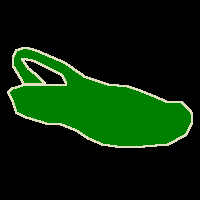shoe: (8, 48, 192, 147)
